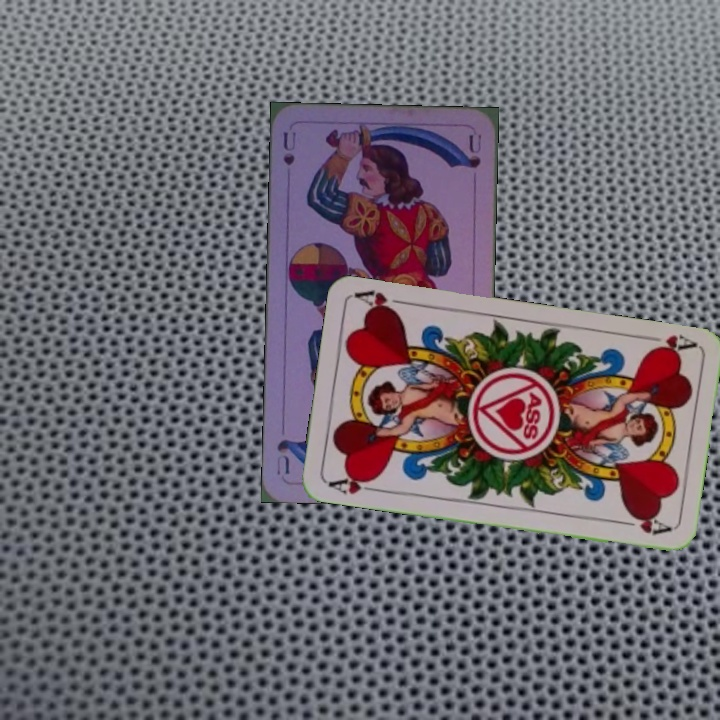HA: (639, 330, 698, 359), (324, 470, 383, 497)
SU: (278, 127, 299, 168)
